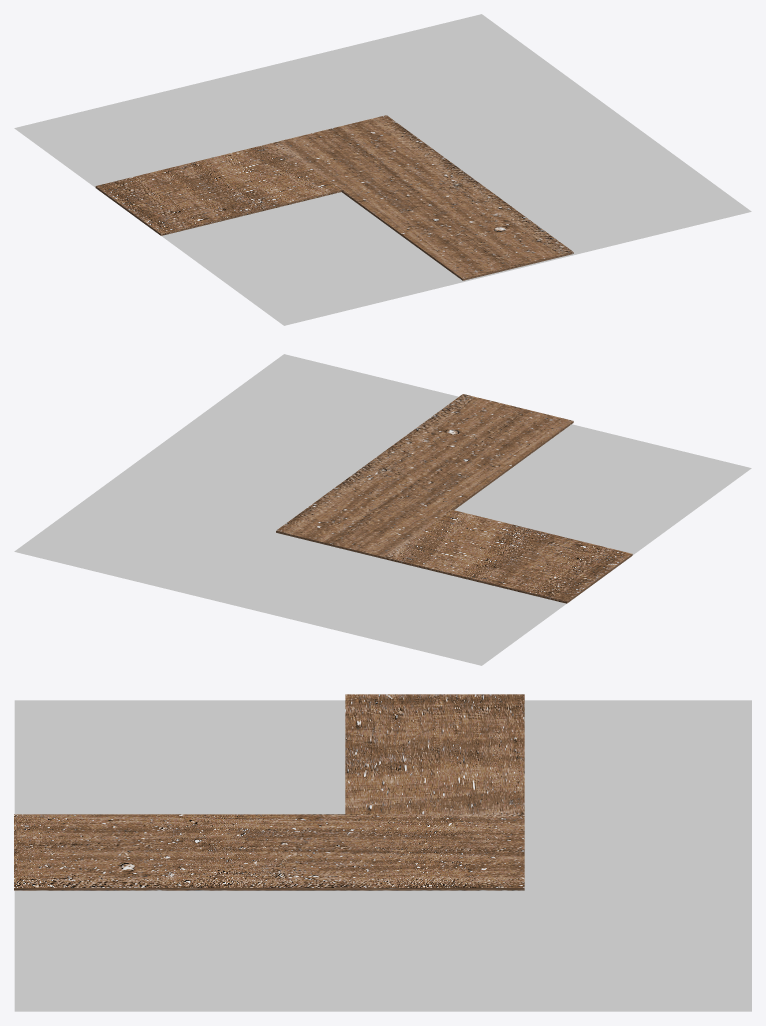
The model's file is RouteVersGauche.dae.
3 renders of one model, top to bottom at view 1: azimuth 30°, elevation 25°; view 2: azimuth 150°, elevation 25°; view 3: azimuth 270°, elevation 25°, orthographic. The views are drawn at different scales.
Parts seen in each view (by area): view 1: SpectreCase, Cube; view 2: SpectreCase, Cube; view 3: SpectreCase, Cube.
Part boxes in pixels (x1=…): SpectreCase: x1=14, y1=14, x2=751, y2=325; Cube: x1=95, y1=115, x2=573, y2=280; SpectreCase: x1=14, y1=354, x2=751, y2=665; Cube: x1=276, y1=394, x2=632, y2=603; SpectreCase: x1=14, y1=700, x2=751, y2=1011; Cube: x1=14, y1=694, x2=524, y2=890.
Size of the model in its own units: 5.97 by 5.95 by 0.0432.
Materials: 1 (1 with a texture image).
